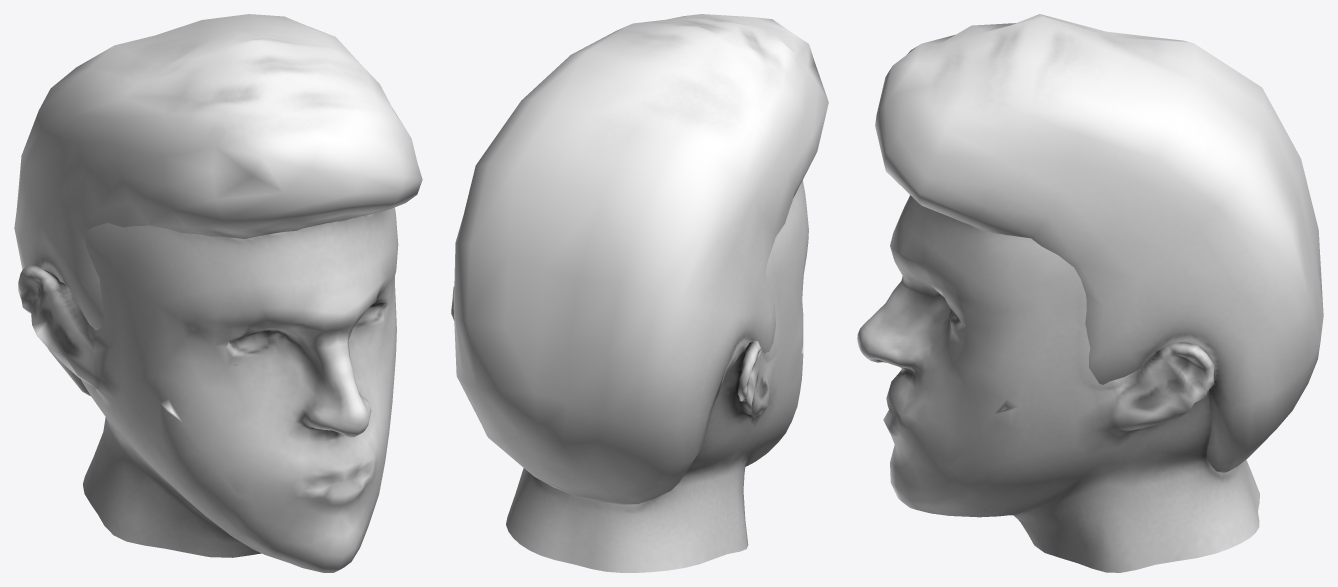
Rendered from cabeza.obj.
The picture shows the model from 3 angles, left to right: view 1: azimuth 30°, elevation 25°; view 2: azimuth 150°, elevation 25°; view 3: azimuth 270°, elevation 25°; orthographic projection. The views are drawn at different scales.
Visible parts, largest first — view 1: cabeza; view 2: cabeza; view 3: cabeza.
Boxes of the visible parts, left/top/right/bottom form: cabeza: left=14, top=14, right=422, bottom=572; cabeza: left=451, top=14, right=828, bottom=572; cabeza: left=857, top=14, right=1323, bottom=572.
Bounding box in the file's own units: 0.0176 × 0.0266 × 0.0228.
Materials: 1 (1 with a texture image).
